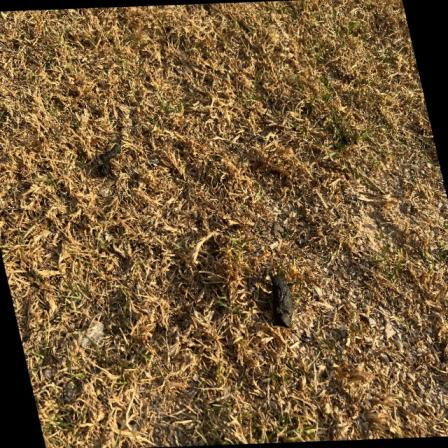dog-poop: (270, 272, 300, 332), (89, 142, 128, 187)
